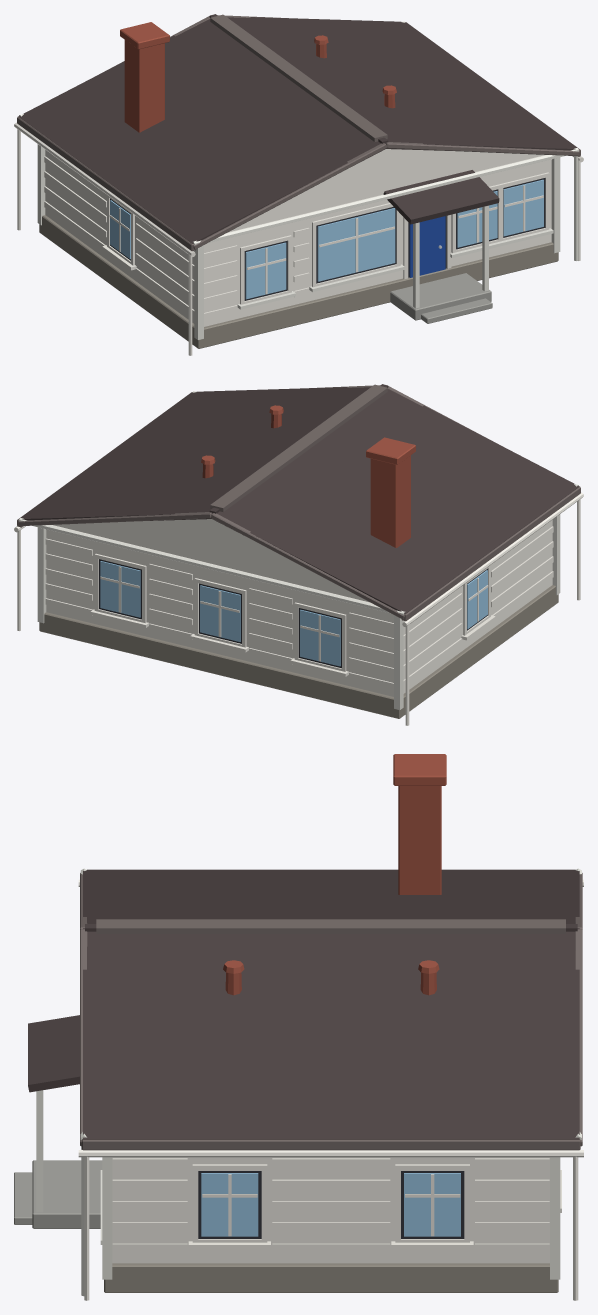
Rendered from StarterHome.glb.
3 renders of one model, top to bottom at view 1: azimuth 30°, elevation 25°; view 2: azimuth 150°, elevation 25°; view 3: azimuth 270°, elevation 25°, orthographic. The views are drawn at different scales.
Parts seen in each view (by area): view 1: Body; view 2: Body; view 3: Body.
Boxes of the visible parts, box(x1,y1,x2,y2) form: Body: box(14, 14, 583, 355); Body: box(14, 384, 583, 725); Body: box(14, 754, 583, 1300).
Size of the model in its own units: 10.22 by 5.53 by 9.
